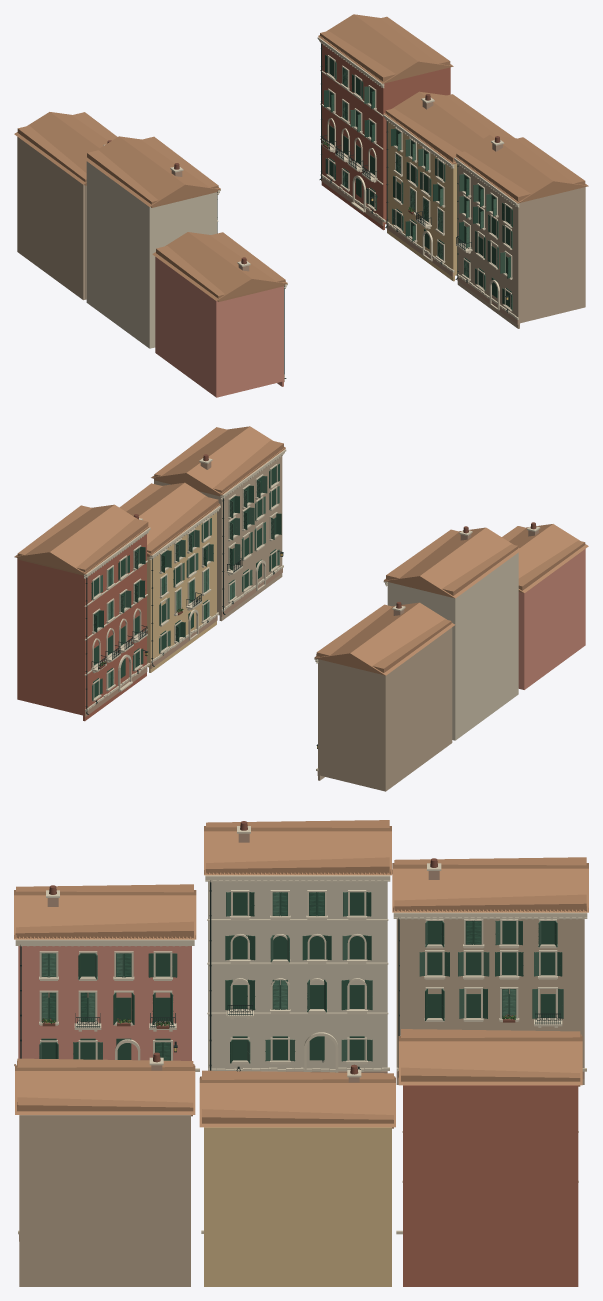
Rendered from canal-11.glb.
3 views of the same model, one above another, from view 1: azimuth 30°, elevation 25°; view 2: azimuth 150°, elevation 25°; view 3: azimuth 270°, elevation 25° (orthographic). The views are drawn at different scales.
Parts seen in each view (by area): view 1: Main elevations / kit:roof, Main elevations / kit:walls:1, Main elevations / kit:walls:5, Distant elevations / kit:roof, Main elevations / kit:walls:3, Distant elevations / kit:walls:5, Main elevations / kit:stone, Main elevations / kit:walls:4, Distant elevations / kit:walls:2, Main elevations / kit:green, Distant elevations / kit:walls:3, Distant elevations / kit:greenDark (+5 smaller); view 2: Main elevations / kit:roof, Main elevations / kit:walls:4, Main elevations / kit:walls:5, Main elevations / kit:walls:3, Distant elevations / kit:roof, Distant elevations / kit:walls:5, Main elevations / kit:stone, Main elevations / kit:walls:1, Distant elevations / kit:walls:2, Main elevations / kit:green, Distant elevations / kit:greenDark, Main elevations / kit:greenDark (+5 smaller); view 3: Main elevations / kit:walls:5, Main elevations / kit:roof, Main elevations / kit:walls:4, Main elevations / kit:walls:2, Distant elevations / kit:roof, Distant elevations / kit:walls:3, Main elevations / kit:stone, Distant elevations / kit:walls:1, Distant elevations / kit:greenDark, Main elevations / kit:greenDark, Main elevations / kit:green, Near ironwork and plants / kit:iron (+3 smaller).
Boxes of the visible parts, left/top/right/bottom form: Main elevations / kit:roof: left=14, top=14, right=588, bottom=300; Main elevations / kit:walls:1: left=155, top=257, right=283, bottom=397; Main elevations / kit:walls:5: left=17, top=137, right=585, bottom=328; Distant elevations / kit:roof: left=17, top=16, right=585, bottom=301; Main elevations / kit:walls:3: left=86, top=161, right=151, bottom=348; Distant elevations / kit:walls:5: left=85, top=185, right=583, bottom=323; Main elevations / kit:stone: left=103, top=37, right=519, bottom=376; Main elevations / kit:walls:4: left=321, top=44, right=450, bottom=230; Distant elevations / kit:walls:2: left=387, top=121, right=457, bottom=275; Main elevations / kit:green: left=325, top=61, right=512, bottom=310; Distant elevations / kit:walls:3: left=151, top=192, right=217, bottom=347; Distant elevations / kit:greenDark: left=329, top=58, right=511, bottom=307; Main elevations / kit:roof: left=14, top=426, right=588, bottom=675; Main elevations / kit:walls:4: left=17, top=534, right=146, bottom=721; Main elevations / kit:walls:5: left=154, top=456, right=452, bottom=791; Main elevations / kit:walls:3: left=453, top=552, right=518, bottom=740; Distant elevations / kit:roof: left=17, top=427, right=585, bottom=672; Distant elevations / kit:walls:5: left=156, top=481, right=383, bottom=790; Main elevations / kit:stone: left=84, top=449, right=540, bottom=770; Main elevations / kit:walls:1: left=518, top=549, right=585, bottom=689; Distant elevations / kit:walls:2: left=147, top=512, right=216, bottom=667; Main elevations / kit:green: left=92, top=476, right=279, bottom=700; Distant elevations / kit:greenDark: left=93, top=466, right=276, bottom=697; Main elevations / kit:greenDark: left=91, top=463, right=281, bottom=694; Main elevations / kit:walls:5: left=19, top=919, right=584, bottom=1286; Main elevations / kit:roof: left=14, top=826, right=588, bottom=1127; Main elevations / kit:walls:4: left=403, top=1085, right=578, bottom=1286; Main elevations / kit:walls:2: left=204, top=1127, right=391, bottom=1286; Distant elevations / kit:roof: left=16, top=820, right=586, bottom=1128; Distant elevations / kit:walls:3: left=208, top=881, right=387, bottom=1071; Main elevations / kit:stone: left=15, top=826, right=587, bottom=1234; Distant elevations / kit:walls:1: left=18, top=946, right=191, bottom=1060; Distant elevations / kit:greenDark: left=41, top=892, right=555, bottom=1060; Main elevations / kit:greenDark: left=49, top=892, right=562, bottom=1063; Main elevations / kit:green: left=39, top=892, right=563, bottom=1063; Near ironwork and plants / kit:iron: left=20, top=880, right=562, bottom=1077.
Bounding box in the file's own units: 44.46 × 19.51 × 41.77.
